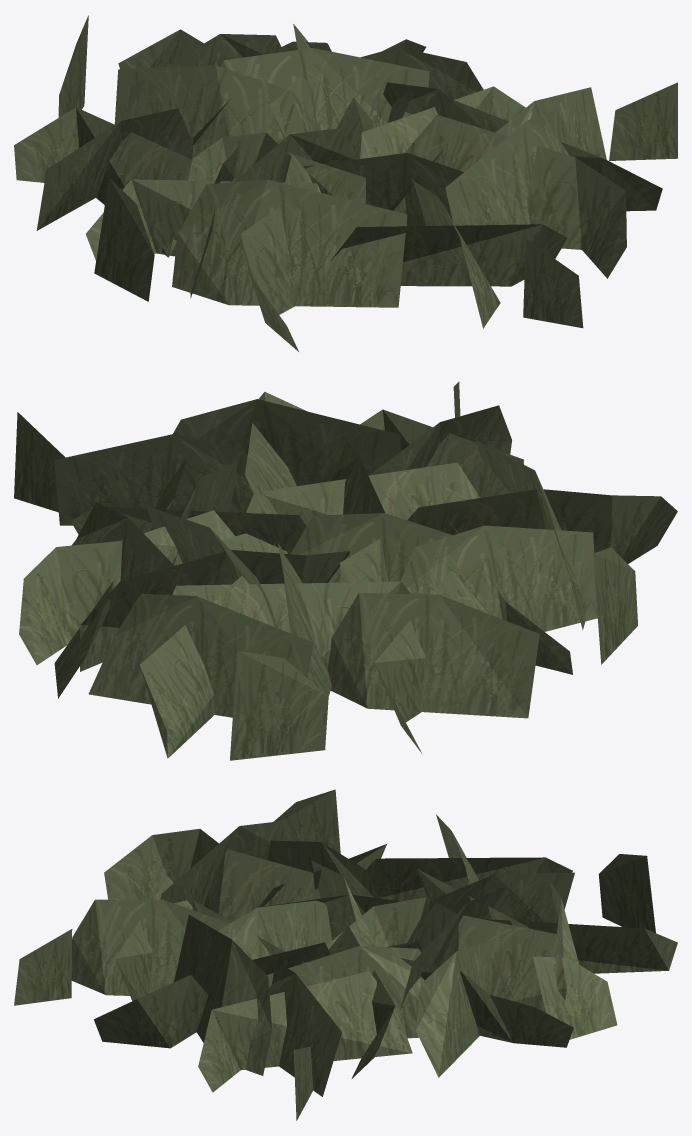
The model's file is FieldGrass_1.fbx.
The picture shows the model from 3 angles, top to bottom: view 1: azimuth 30°, elevation 25°; view 2: azimuth 150°, elevation 25°; view 3: azimuth 270°, elevation 25°; orthographic projection. The views are drawn at different scales.
Parts seen in each view (by area): view 1: SM_FieldGrassv_01.mo; view 2: SM_FieldGrassv_01.mo; view 3: SM_FieldGrassv_01.mo.
Part boxes in pixels (bbox=[...]): SM_FieldGrassv_01.mo: bbox=[14, 15, 677, 351]; SM_FieldGrassv_01.mo: bbox=[14, 381, 677, 760]; SM_FieldGrassv_01.mo: bbox=[14, 789, 677, 1120].
Size of the model in its own units: 106 by 20.64 by 120.
